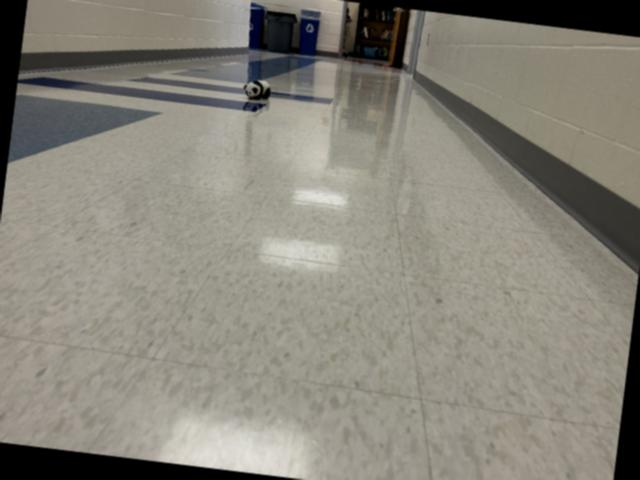panda_plushie: (243, 78, 271, 102)
